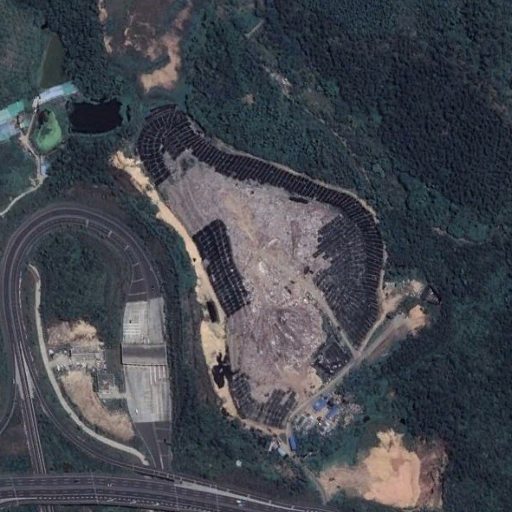lf: (137, 106, 387, 433)
